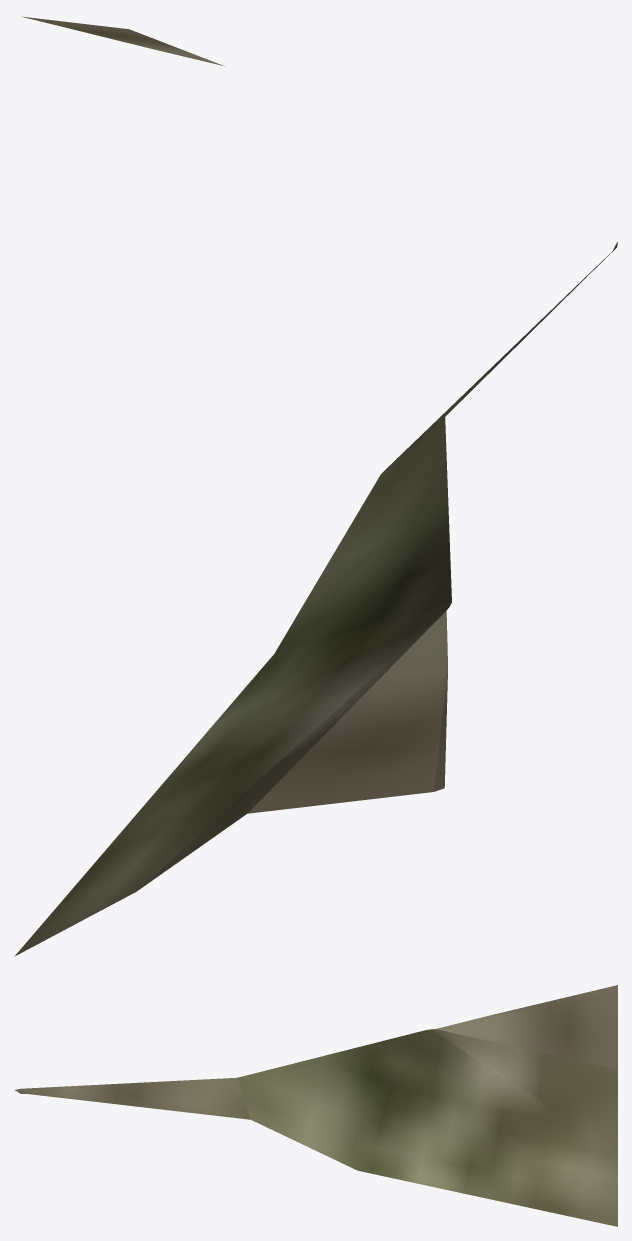
The picture shows the model from 3 angles, top to bottom: view 1: azimuth 30°, elevation 25°; view 2: azimuth 150°, elevation 25°; view 3: azimuth 270°, elevation 25°; orthographic projection. The views are drawn at different scales.
Size of the model in its own units: 0.2383 by 0.1447 by 0.5787.
Materials: 1 (1 with a texture image).
